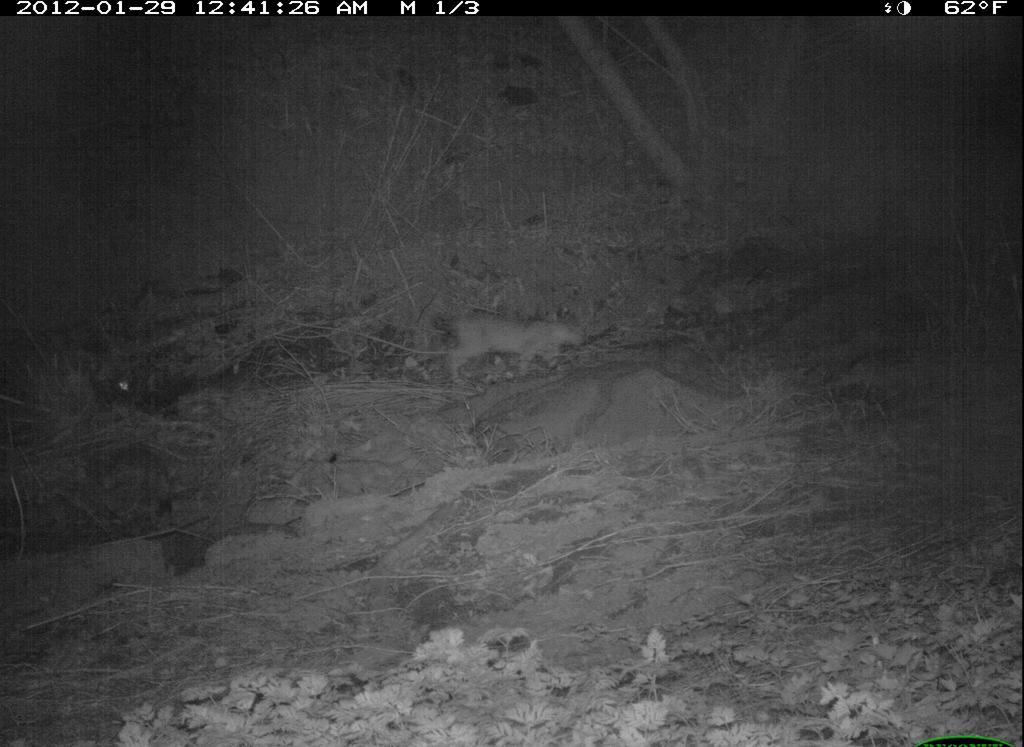bobcat: (429, 292, 588, 390)
